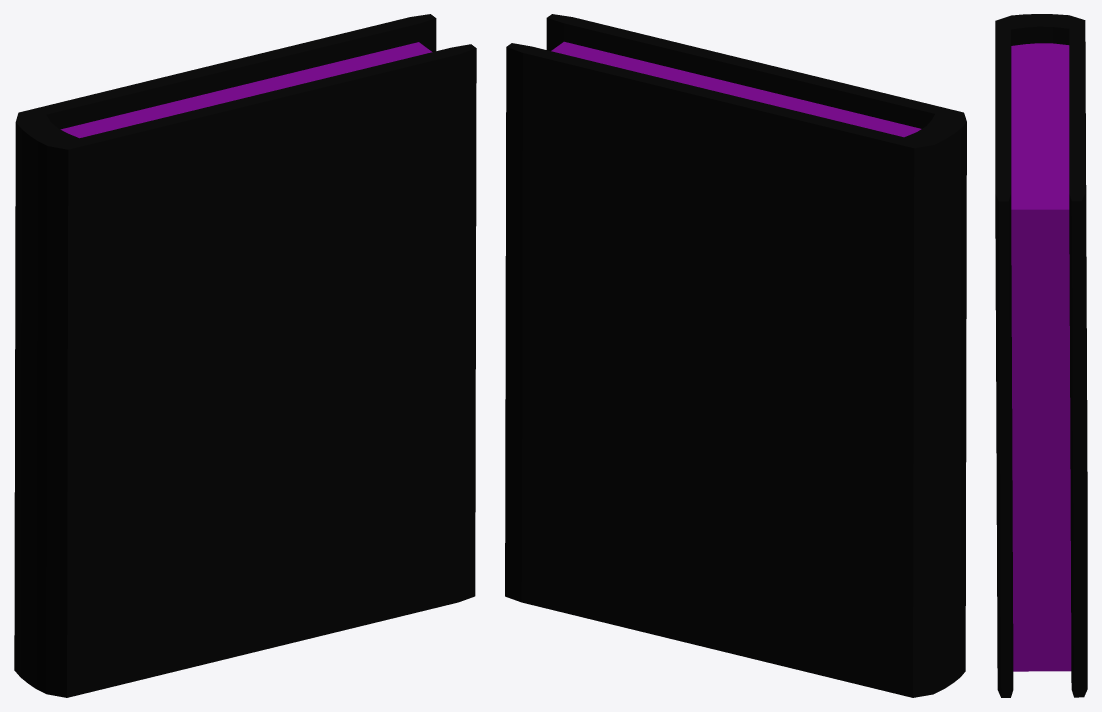
Rendered from book_witch.fbx.
The picture shows the model from 3 angles, left to right: view 1: azimuth 30°, elevation 25°; view 2: azimuth 150°, elevation 25°; view 3: azimuth 270°, elevation 25°; orthographic projection. The views are drawn at different scales.
Visible parts, largest first — view 1: witch_book1:Mesh; view 2: witch_book1:Mesh; view 3: witch_book1:Mesh.
Boxes of the visible parts, box(x1,y1,x2,y2) form: witch_book1:Mesh: box(14, 14, 476, 697); witch_book1:Mesh: box(505, 14, 966, 697); witch_book1:Mesh: box(995, 14, 1087, 697).
Bounding box in the file's own units: 1.55 × 1.92 × 0.3229.
